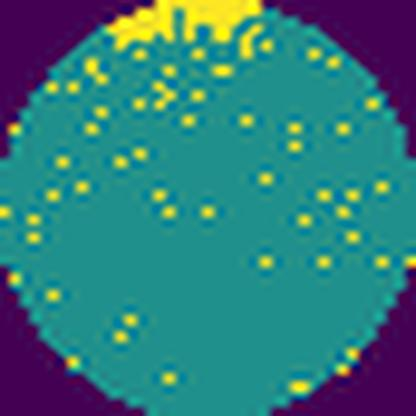Edge-Loc: (96, 0, 264, 50)
